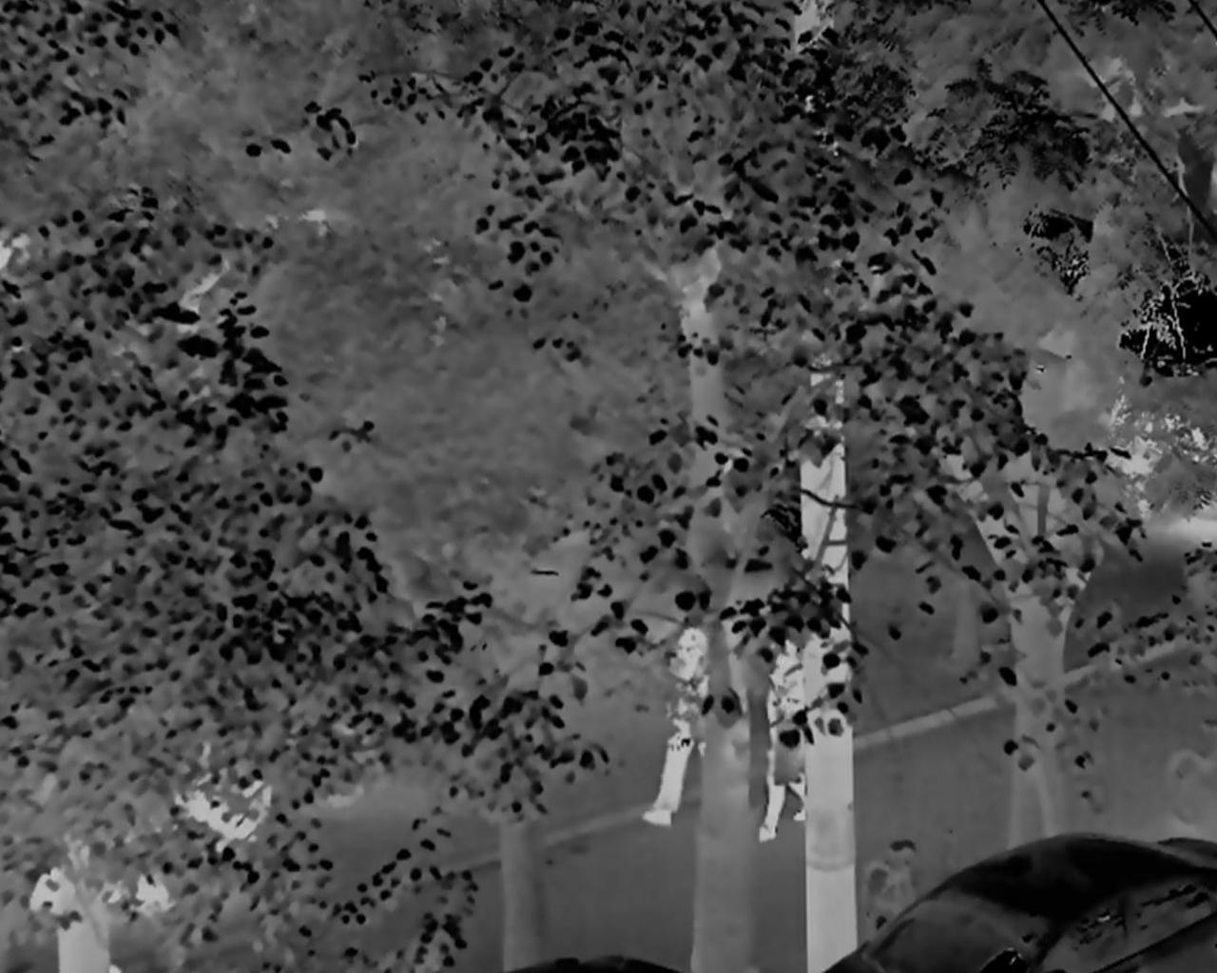person: (640, 603, 705, 830), (760, 628, 805, 841)
